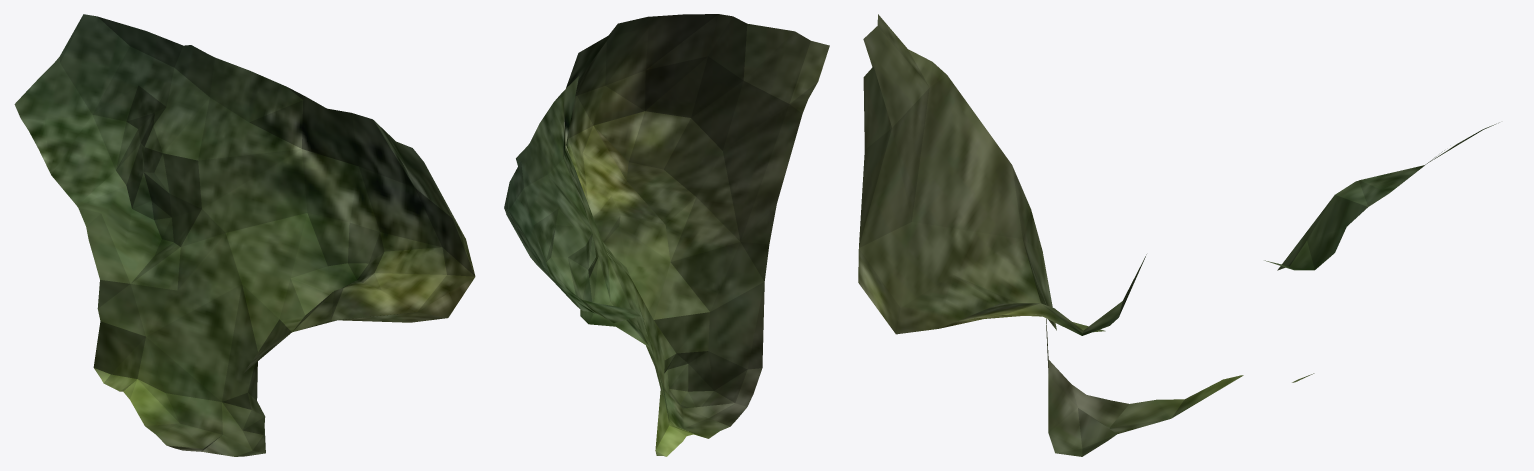
The picture shows the model from 3 angles, left to right: view 1: azimuth 30°, elevation 25°; view 2: azimuth 150°, elevation 25°; view 3: azimuth 270°, elevation 25°; orthographic projection. The views are drawn at different scales.
Bounding box in the file's own units: 1.93 × 2.61 × 3.88.
Materials: 1 (1 with a texture image).
